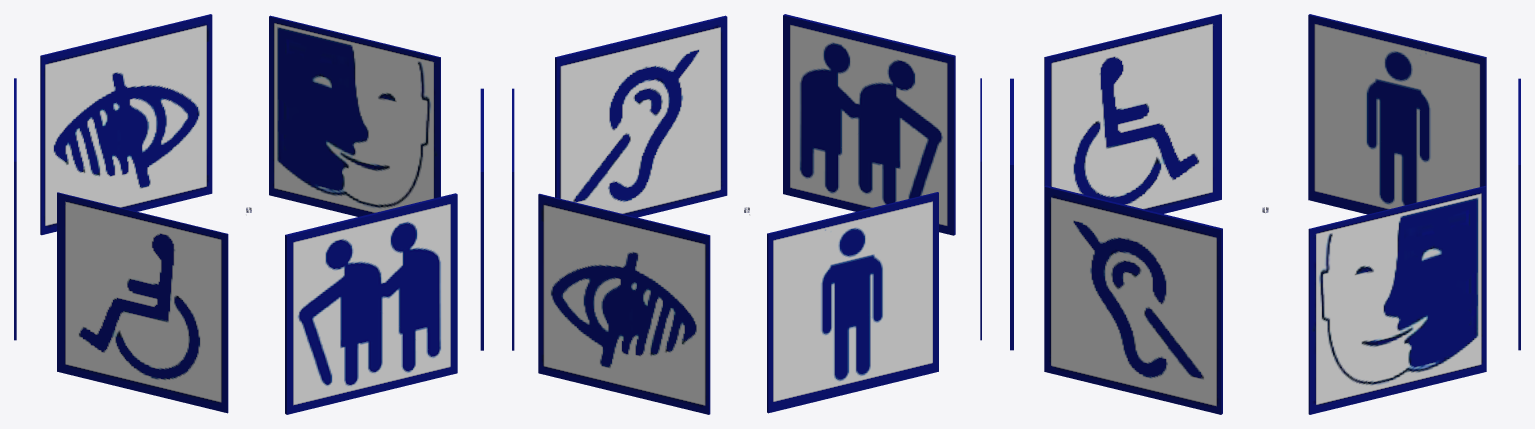
File: accessibilité.fbx
3 renders of one model, left to right at view 1: azimuth 30°, elevation 25°; view 2: azimuth 150°, elevation 25°; view 3: azimuth 270°, elevation 25°, orthographic. The views are drawn at different scales.
Parts seen in each view (by area): view 1: Plane; view 2: Plane; view 3: Plane.
Part boxes in pixels (bbox=[...]): Plane: bbox=[14, 14, 483, 414]; Plane: bbox=[512, 14, 981, 414]; Plane: bbox=[1010, 14, 1520, 414].
Bounding box in the file's own units: 500 × 200 × 500.
